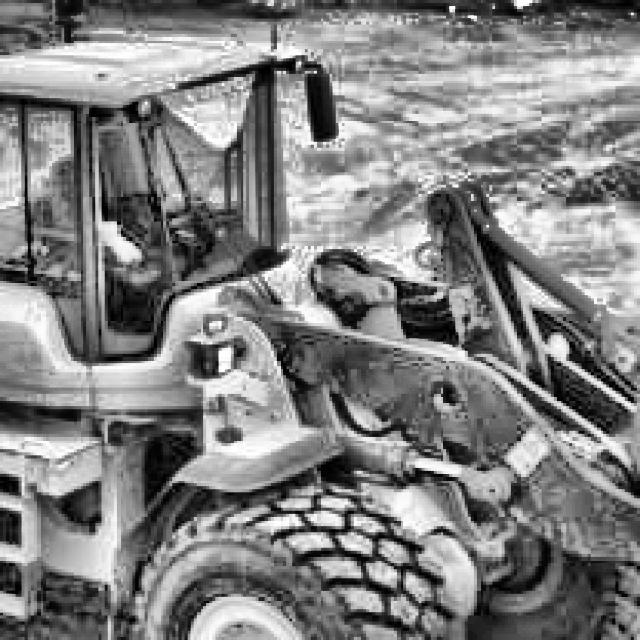buldozerpayloadergrader: (0, 12, 631, 640)
